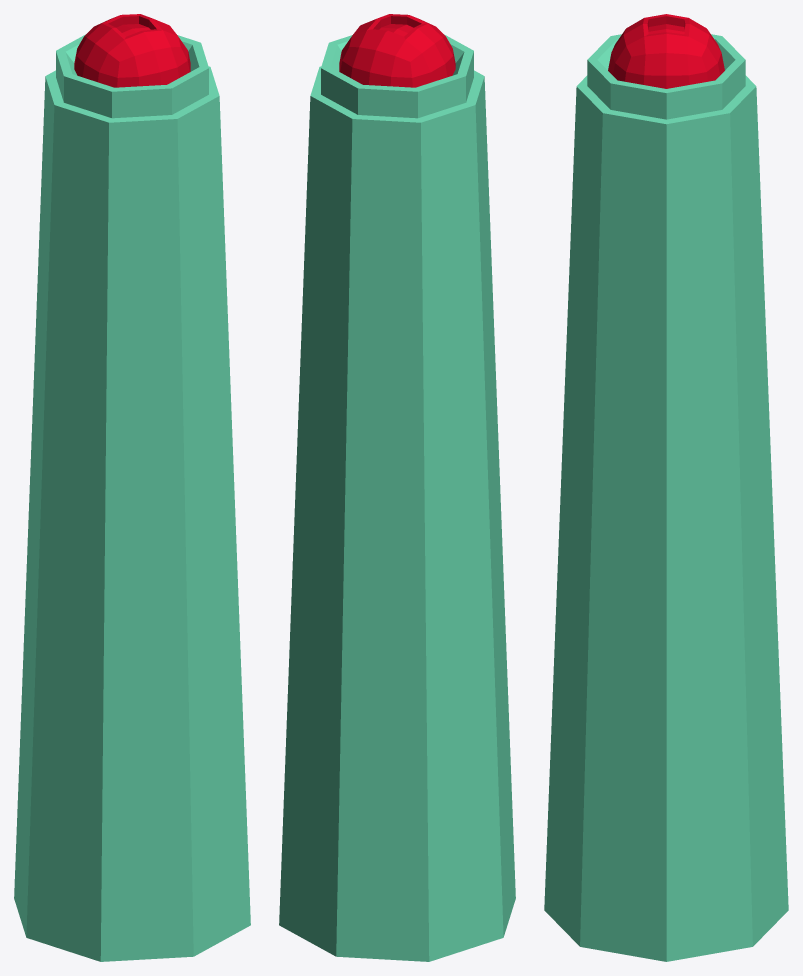
Rendered from PillarButton.fbx.
3 views of the same model, side by side, from view 1: azimuth 30°, elevation 25°; view 2: azimuth 150°, elevation 25°; view 3: azimuth 270°, elevation 25° (orthographic).
Parts seen in each view (by area): view 1: Cube, Cube.001; view 2: Cube, Cube.001; view 3: Cube, Cube.001.
Part boxes in pixels (box(x1,y1,x2,y2)): Cube: box(14, 34, 250, 961); Cube.001: box(74, 14, 190, 87); Cube: box(279, 34, 515, 961); Cube.001: box(339, 14, 455, 87); Cube: box(544, 34, 788, 961); Cube.001: box(608, 14, 724, 88).
Size of the model in its own units: 69.63 by 279 by 69.63.
